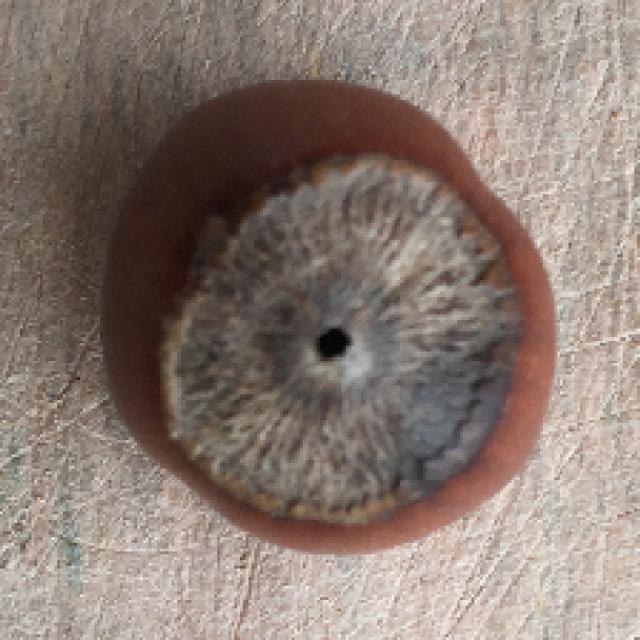damagedHazelnut: (95, 60, 578, 567)
